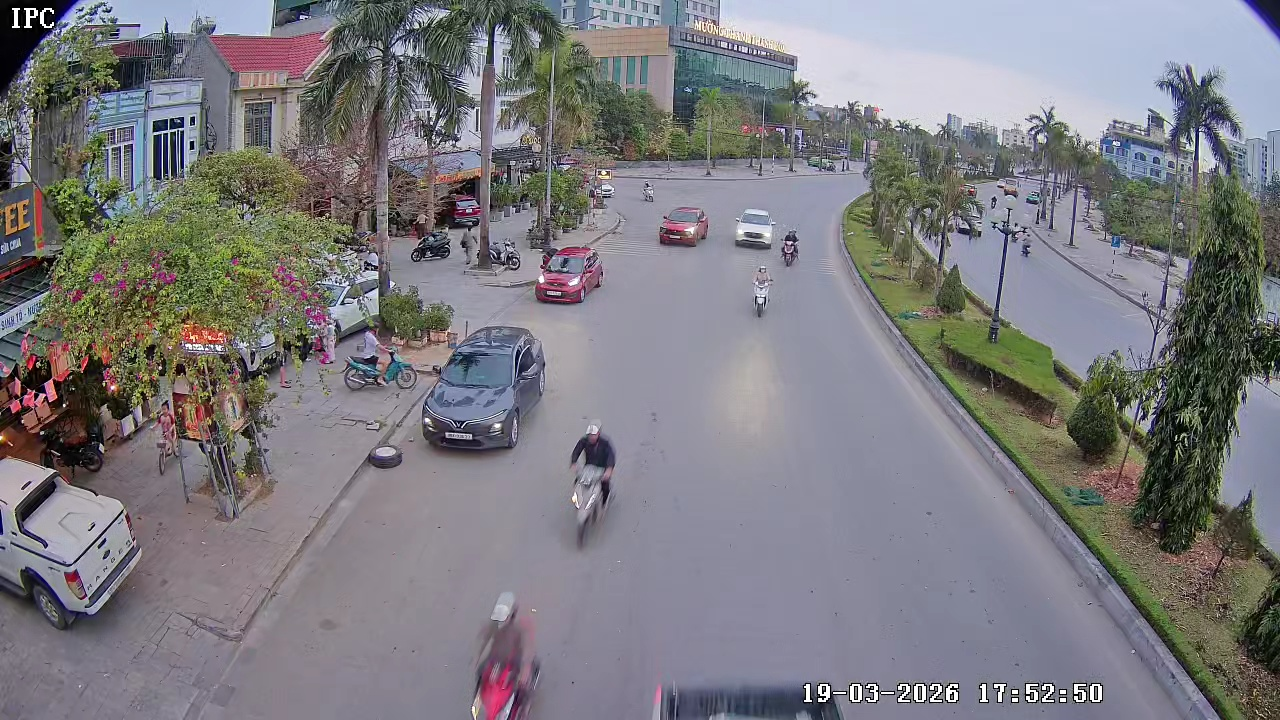car: (0, 483, 142, 629), (420, 323, 547, 450), (533, 243, 603, 303), (657, 204, 708, 247), (733, 207, 775, 250)
motorbike: (466, 590, 544, 719), (567, 422, 620, 548), (342, 325, 418, 391), (749, 262, 775, 319), (778, 227, 801, 267)
